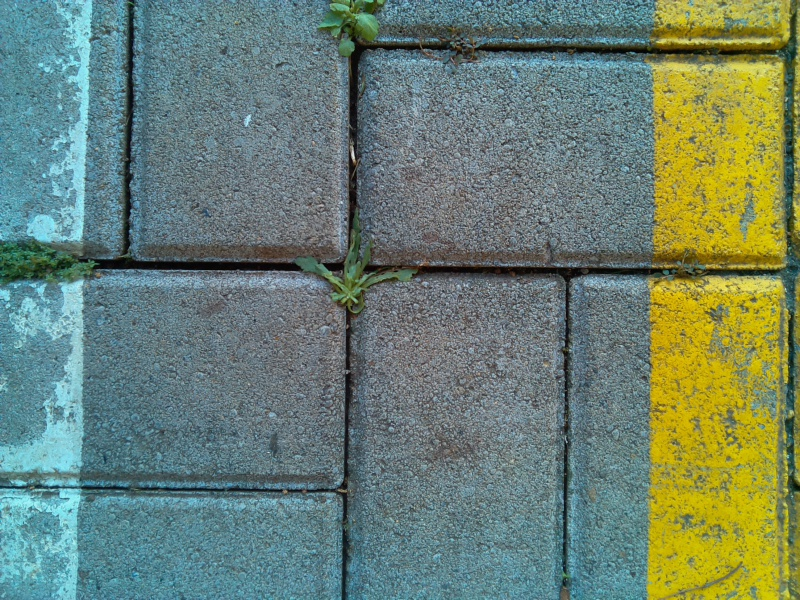Weed: (286, 208, 427, 318), (1, 227, 103, 292), (303, 1, 390, 67), (424, 27, 493, 76), (644, 249, 715, 291), (551, 563, 582, 590), (334, 513, 360, 541)
